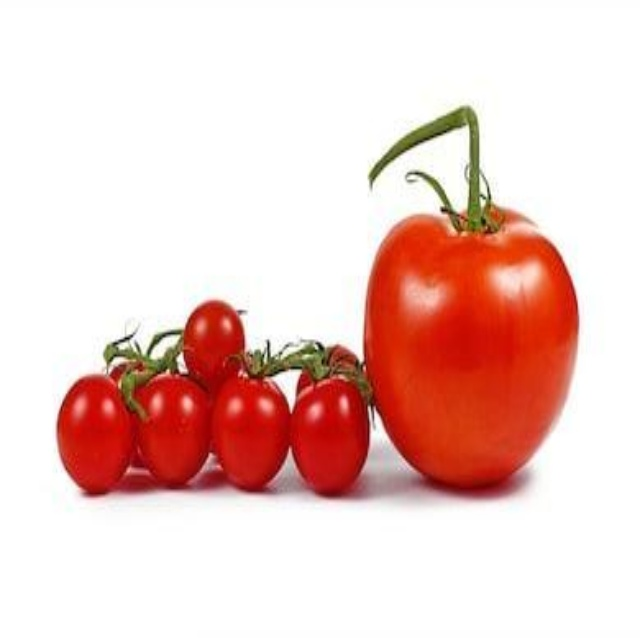tomato: (364, 102, 594, 486), (47, 362, 133, 483), (218, 387, 295, 495), (176, 299, 257, 399), (300, 376, 368, 489), (137, 383, 203, 488)
